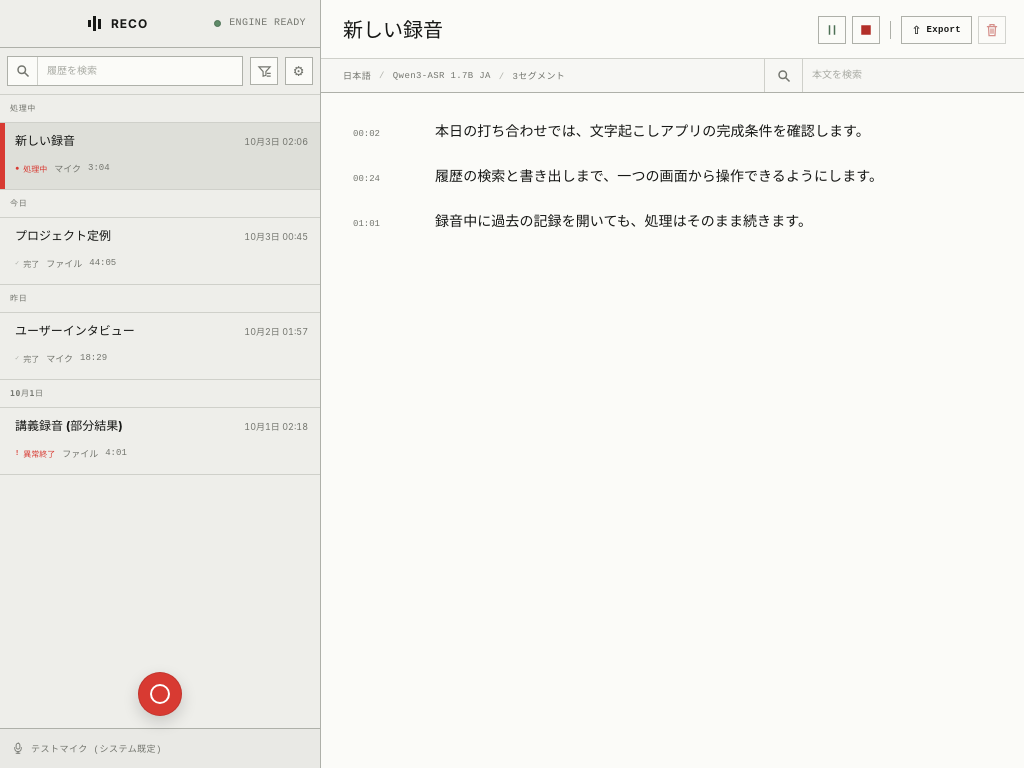
Test: RecoGUI › copies a selected session in the chosen format
This screenshot has width=1024, height=768.
Expected: the heading "新しい録音" is shown, left=343, top=18, right=443, bottom=42
Click the option "プロジェクト定例" at [63, 236], box left=0, top=218, right=320, bottom=285
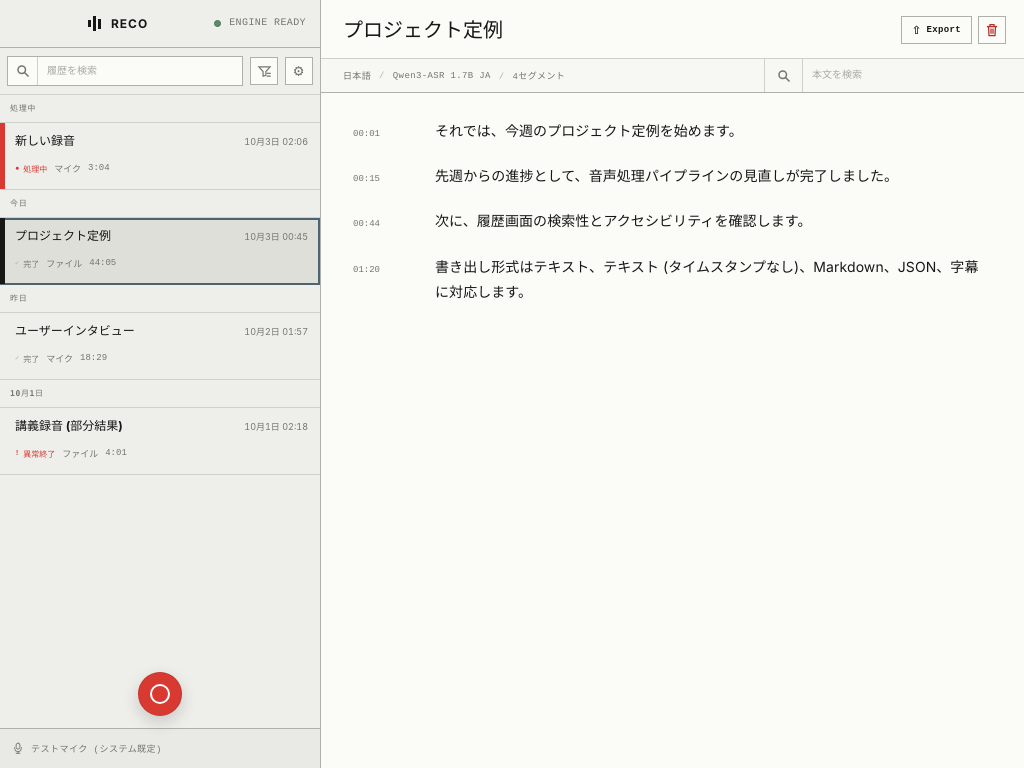
Click the button "⇧ Export" at [936, 30], box left=901, top=16, right=972, bottom=44
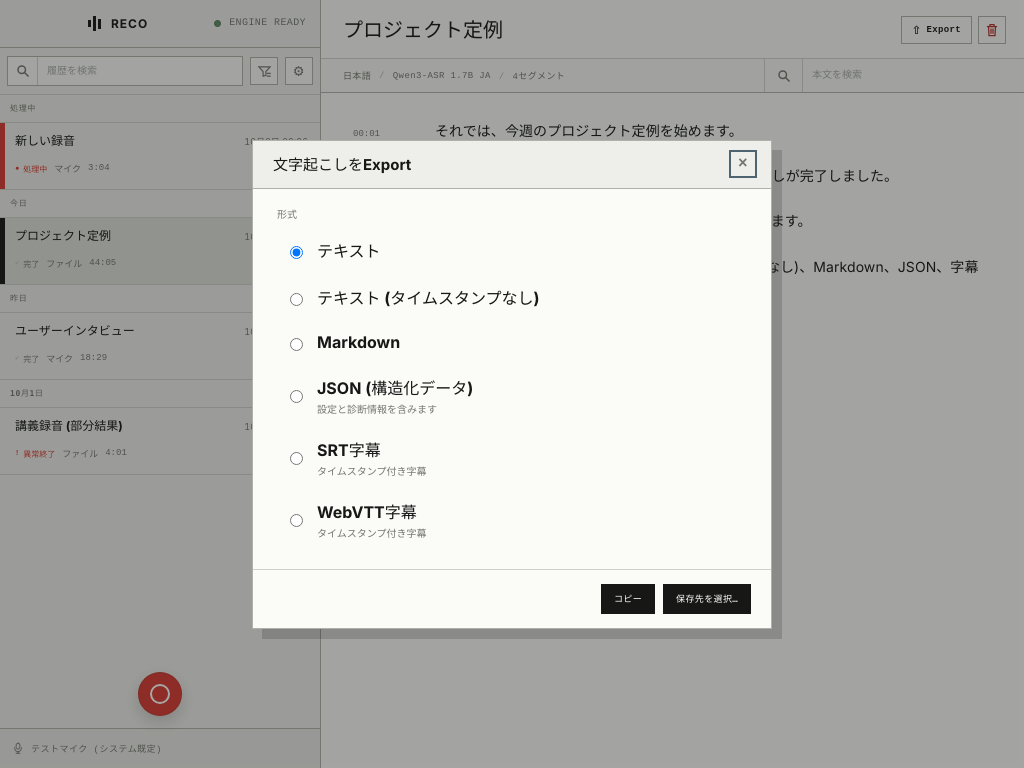
Click the radio button labelled "Markdown" at [296, 344], box left=290, top=338, right=303, bottom=350
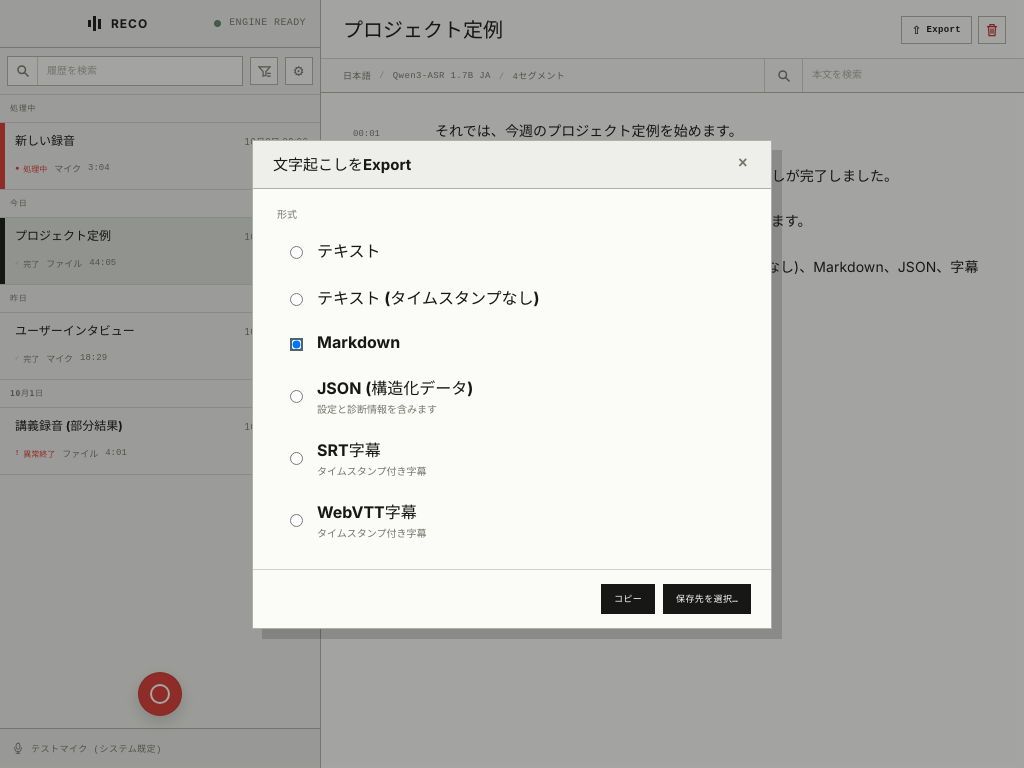
Click the button "コピー" at [628, 598], box left=601, top=584, right=655, bottom=614
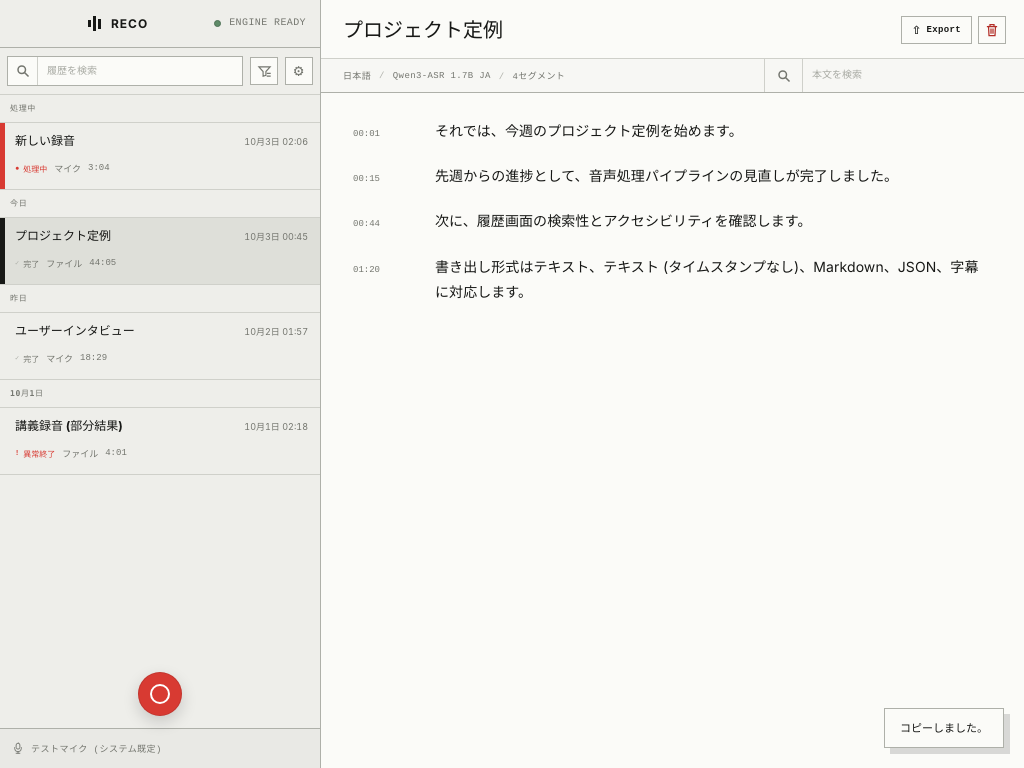
Now the text "コピーしました。" is shown, box left=884, top=708, right=1004, bottom=748
